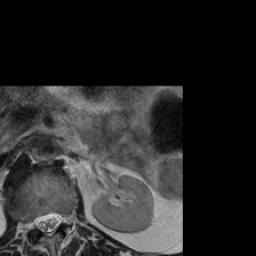CCS_normal: (44, 204, 53, 242)
LFS_normal: (62, 204, 71, 233)
LLS_normal: (53, 204, 62, 235)
RFS_normal: (26, 209, 35, 237)
RLS_normal: (35, 205, 44, 239)
